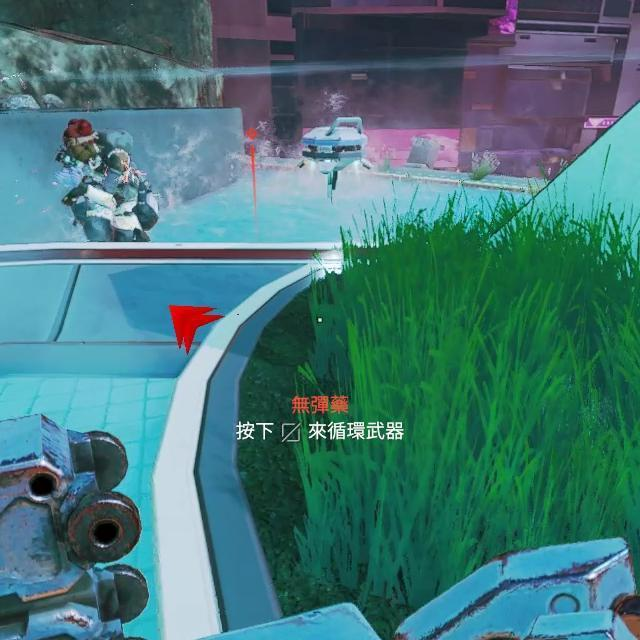avatar: (58, 117, 162, 242)
